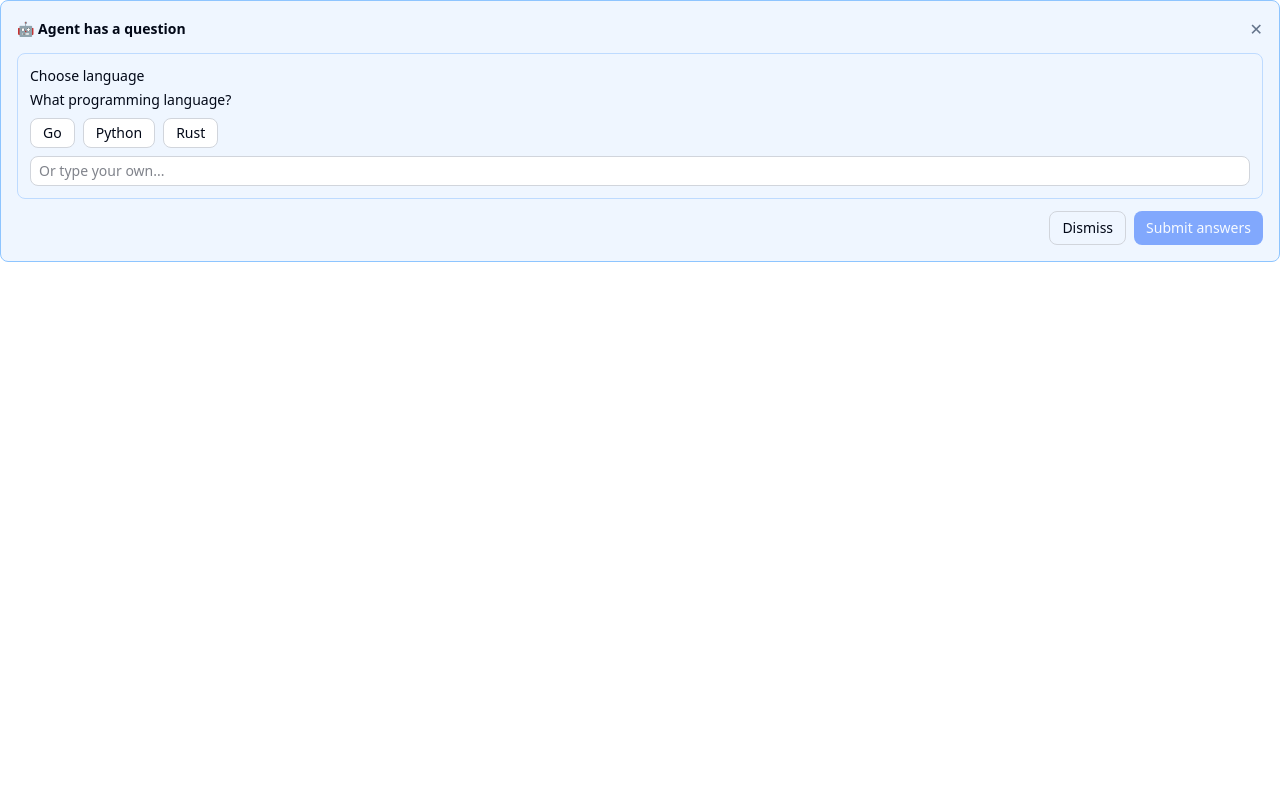
Test: QuestionPrompt › single select: click option selects it, submit enabled
The width and height of the screenshot is (1280, 800).
Click the button "Go": coordinates (52, 133) [30,118,75,148]
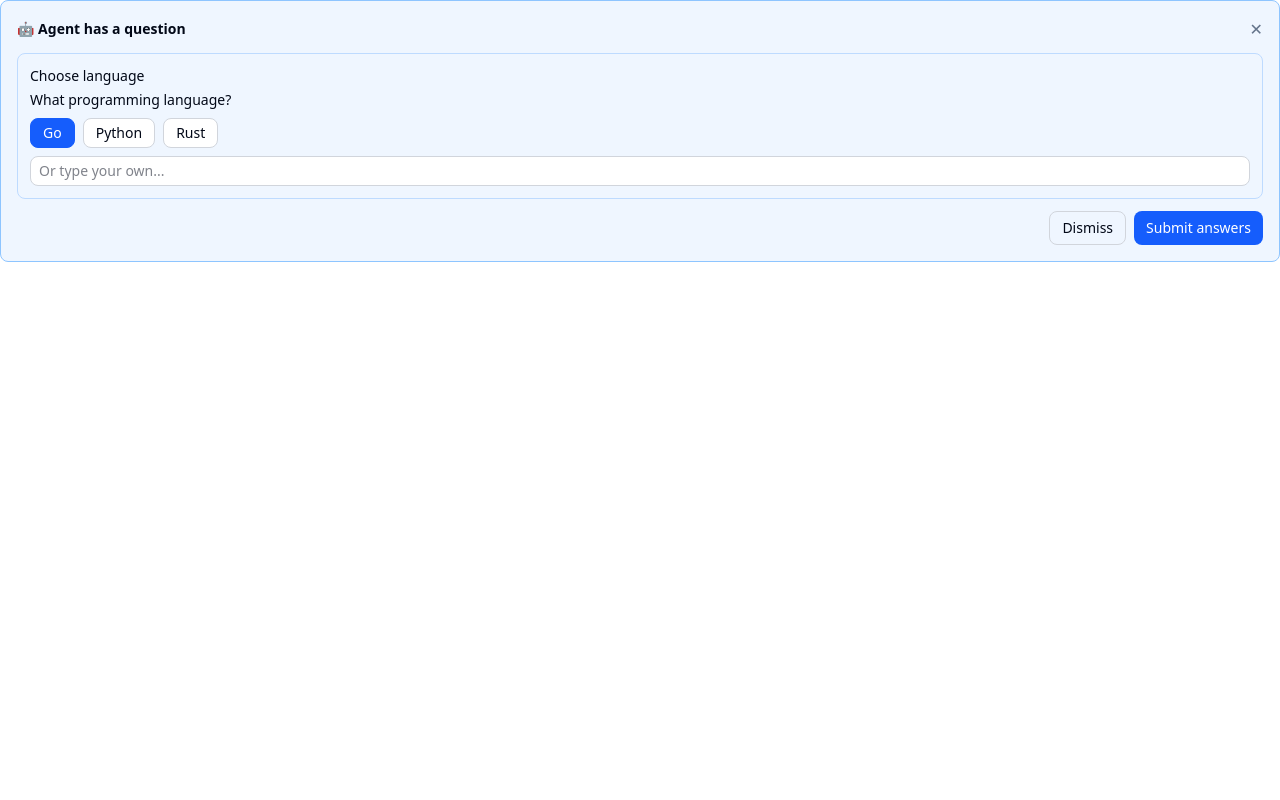
expect the button "Submit answers" is enabled: met, box [1134,211,1263,245]
